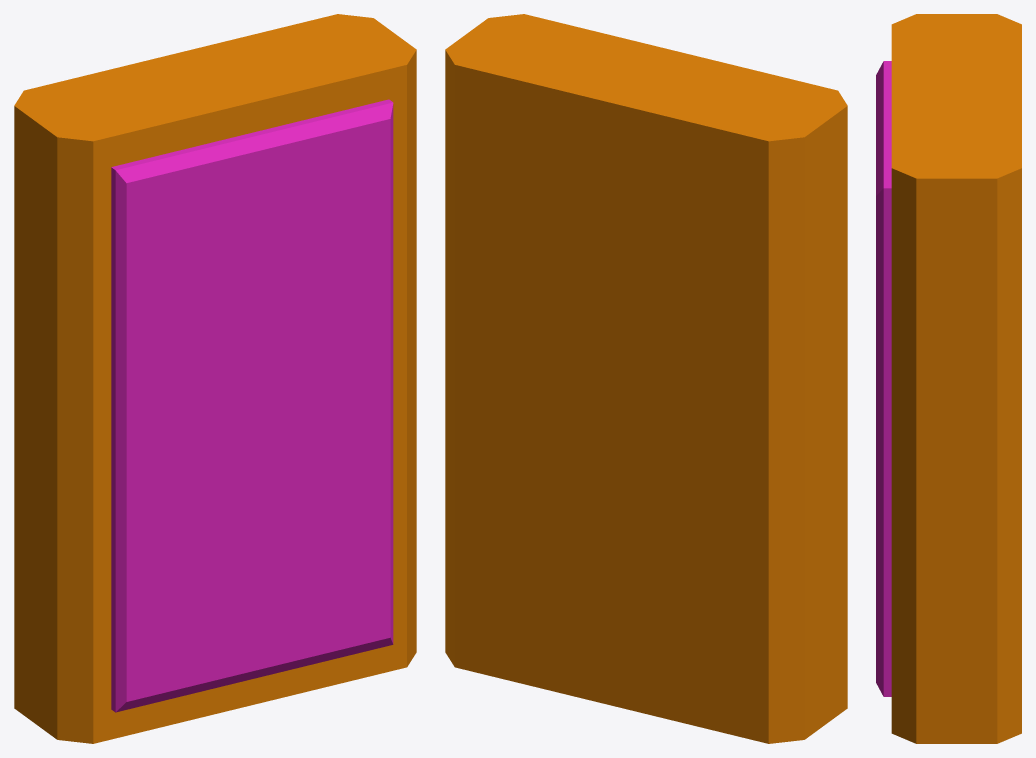
The model's file is BasicOutdoorWall.fbx.
The picture shows the model from 3 angles, left to right: view 1: azimuth 30°, elevation 25°; view 2: azimuth 150°, elevation 25°; view 3: azimuth 270°, elevation 25°; orthographic projection. The views are drawn at different scales.
Parts seen in each view (by area): view 1: StoneWall; view 2: StoneWall; view 3: StoneWall.
Boxes of the visible parts, bbox=[...] form: StoneWall: bbox=[14, 14, 416, 743]; StoneWall: bbox=[445, 14, 847, 743]; StoneWall: bbox=[876, 14, 1021, 743].
Bounding box in the file's own units: 200 × 320 × 74.89.
